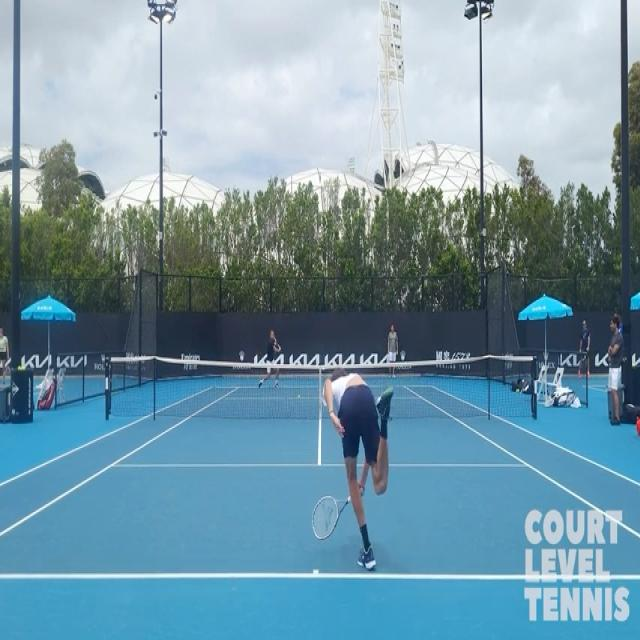serve_followthrough: (294, 345, 426, 577)
